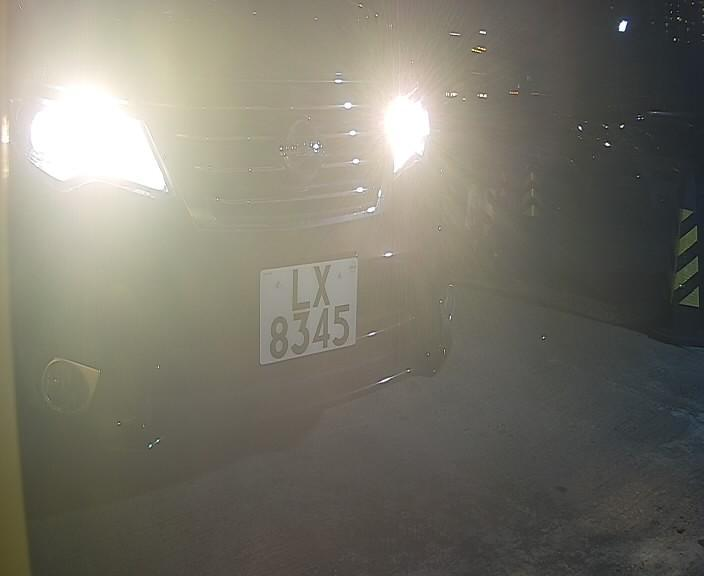privatecar: (2, 3, 470, 483)
